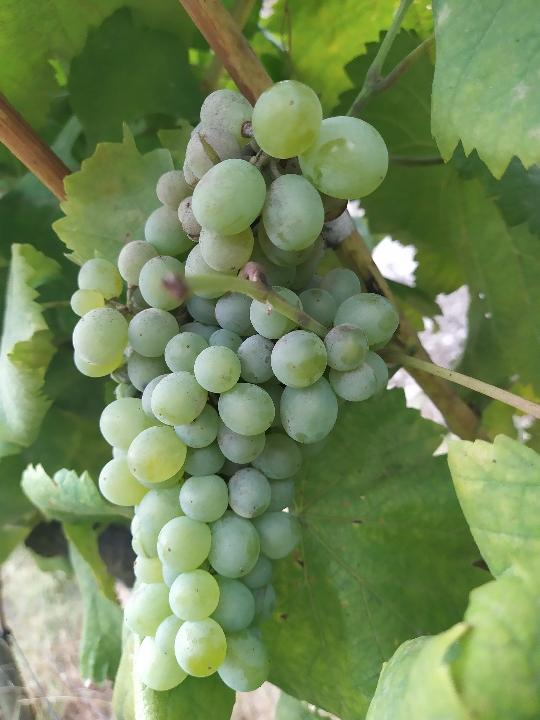grape: (63, 71, 403, 693)
